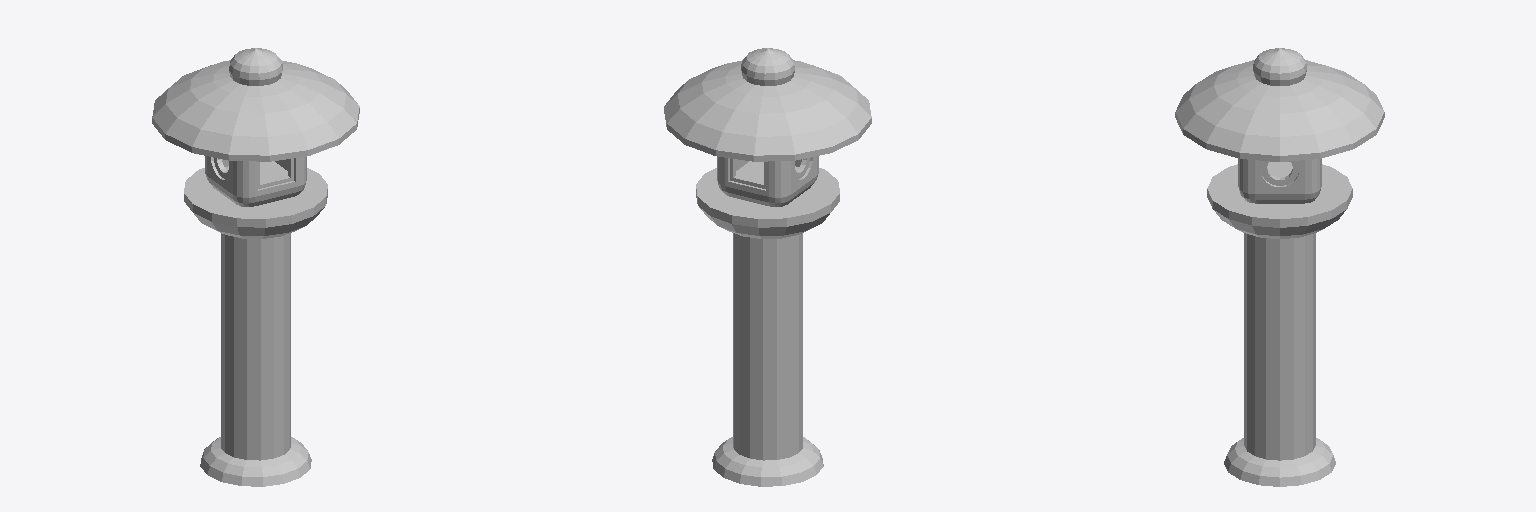
File: lightpole.obj
3 renders of one model, left to right at view 1: azimuth 30°, elevation 25°; view 2: azimuth 150°, elevation 25°; view 3: azimuth 270°, elevation 25°, orthographic.
Visible parts, largest first — view 1: japanese_stone_lantern_02; view 2: japanese_stone_lantern_02; view 3: japanese_stone_lantern_02.
Part boxes in pixels (left/top/right/bottom): japanese_stone_lantern_02: left=152, top=48, right=359, bottom=486; japanese_stone_lantern_02: left=664, top=48, right=871, bottom=486; japanese_stone_lantern_02: left=1175, top=48, right=1384, bottom=486.
Bounding box in the file's own units: 0.4575 × 0.9999 × 0.4575.